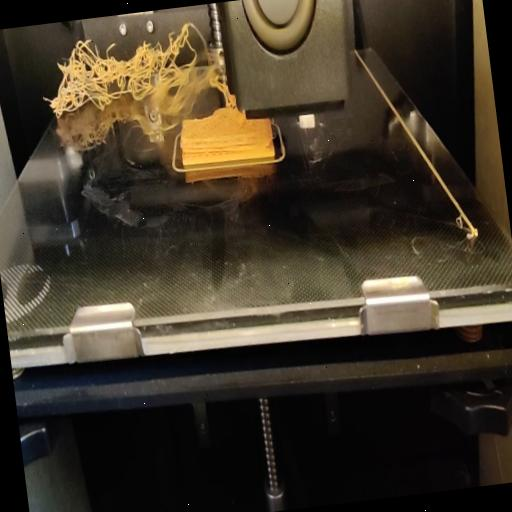spaghetti: (36, 20, 219, 124)
